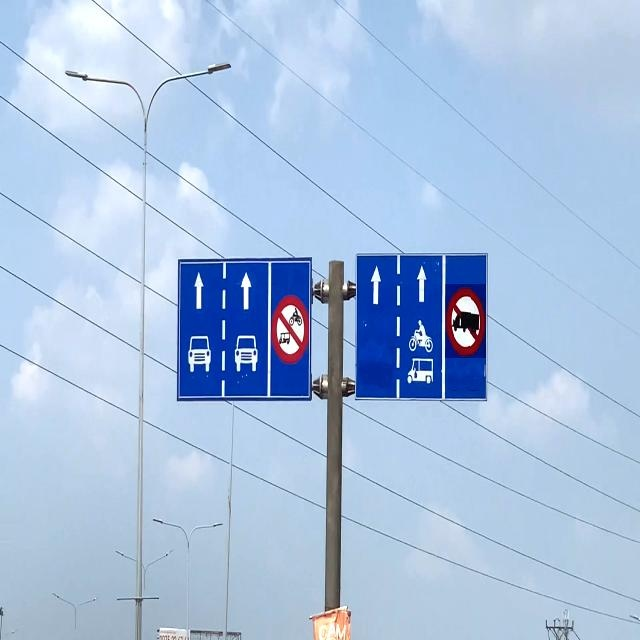bien_hieu_lenh: (445, 284, 486, 358)
